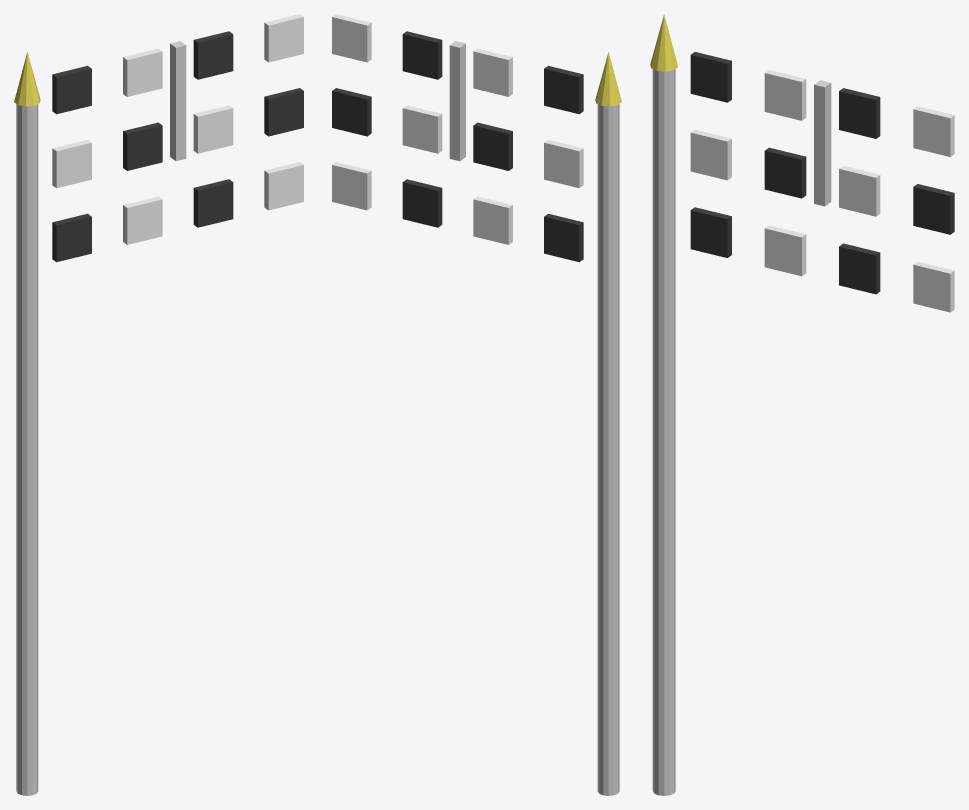
File: racing_flag.fbx
3 views of the same model, side by side, from view 1: azimuth 30°, elevation 25°; view 2: azimuth 150°, elevation 25°; view 3: azimuth 330°, elevation 25° (orthographic). The views are drawn at different scales.
Parts seen in each view (by area): view 1: RF_Pole, RF_Conn, RF_Tile02, RF_Tile12, RF_Tile22, RF_Tile23, RF_Tile13, RF_Tile20, RF_Tile00, RF_Tile01, RF_Tile03, RF_Tile10 (+3 smaller); view 2: RF_Pole, RF_Conn, RF_Tile02, RF_Tile12, RF_Tile22, RF_Tile23, RF_Tile13, RF_Tile20, RF_Tile00, RF_Tile01, RF_Tile03, RF_Tile10 (+3 smaller); view 3: RF_Pole, RF_Conn, RF_Tile21, RF_Tile01, RF_Tile11, RF_Tile02, RF_Tile10, RF_Tile03, RF_Tile12, RF_Tile13, RF_Tile20, RF_Tile22 (+3 smaller).
Part boxes in pixels (box(x1,y1,x2,y2)): RF_Pole: box(16, 104, 38, 795); RF_Conn: box(170, 41, 186, 161); RF_Tile02: box(193, 179, 233, 227); RF_Tile12: box(193, 105, 233, 153); RF_Tile22: box(193, 31, 233, 79); RF_Tile23: box(264, 14, 303, 62); RF_Tile13: box(264, 88, 303, 136); RF_Tile20: box(52, 65, 91, 114); RF_Tile00: box(52, 213, 91, 262); RF_Tile01: box(123, 196, 162, 244); RF_Tile03: box(264, 162, 303, 210); RF_Tile10: box(52, 139, 91, 188); RF_Pole: box(597, 104, 619, 795); RF_Conn: box(449, 41, 465, 161); RF_Tile02: box(402, 179, 442, 227); RF_Tile12: box(402, 105, 442, 153); RF_Tile22: box(402, 31, 442, 79); RF_Tile23: box(332, 14, 371, 62); RF_Tile13: box(332, 88, 371, 136); RF_Tile20: box(544, 65, 583, 114); RF_Tile00: box(544, 213, 583, 262); RF_Tile01: box(473, 196, 512, 244); RF_Tile03: box(332, 162, 371, 210); RF_Tile10: box(544, 139, 583, 188); RF_Pole: box(652, 69, 675, 795); RF_Conn: box(814, 80, 831, 206); RF_Tile21: box(764, 70, 806, 120); RF_Tile01: box(764, 225, 806, 276); RF_Tile11: box(764, 147, 806, 198); RF_Tile02: box(839, 243, 880, 294); RF_Tile10: box(690, 129, 731, 180); RF_Tile03: box(913, 261, 954, 312); RF_Tile12: box(839, 165, 880, 216); RF_Tile13: box(913, 184, 954, 234); RF_Tile20: box(690, 52, 731, 102); RF_Tile22: box(839, 88, 880, 138).
Bounding box in the file's own units: 0.6063 × 1.5 × 0.05.
